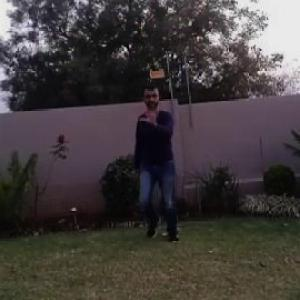follow_hand: (141, 100, 165, 128)
